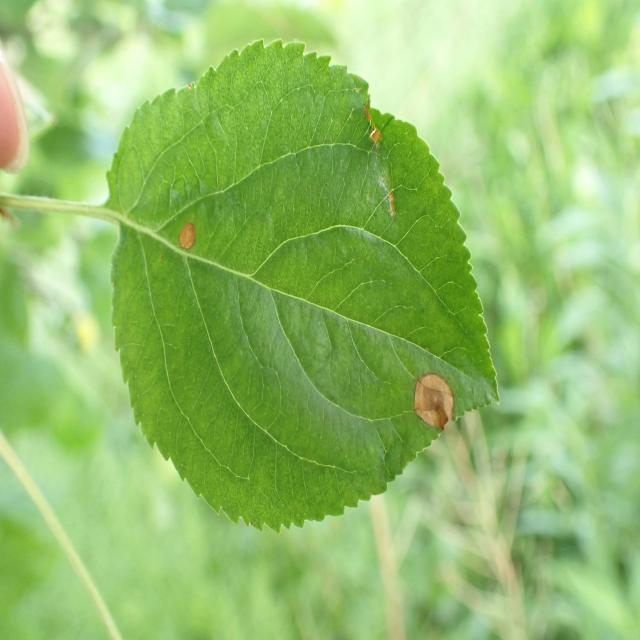Black Rot: (392, 357, 467, 448), (367, 173, 411, 227), (164, 208, 202, 255), (359, 95, 383, 162)
